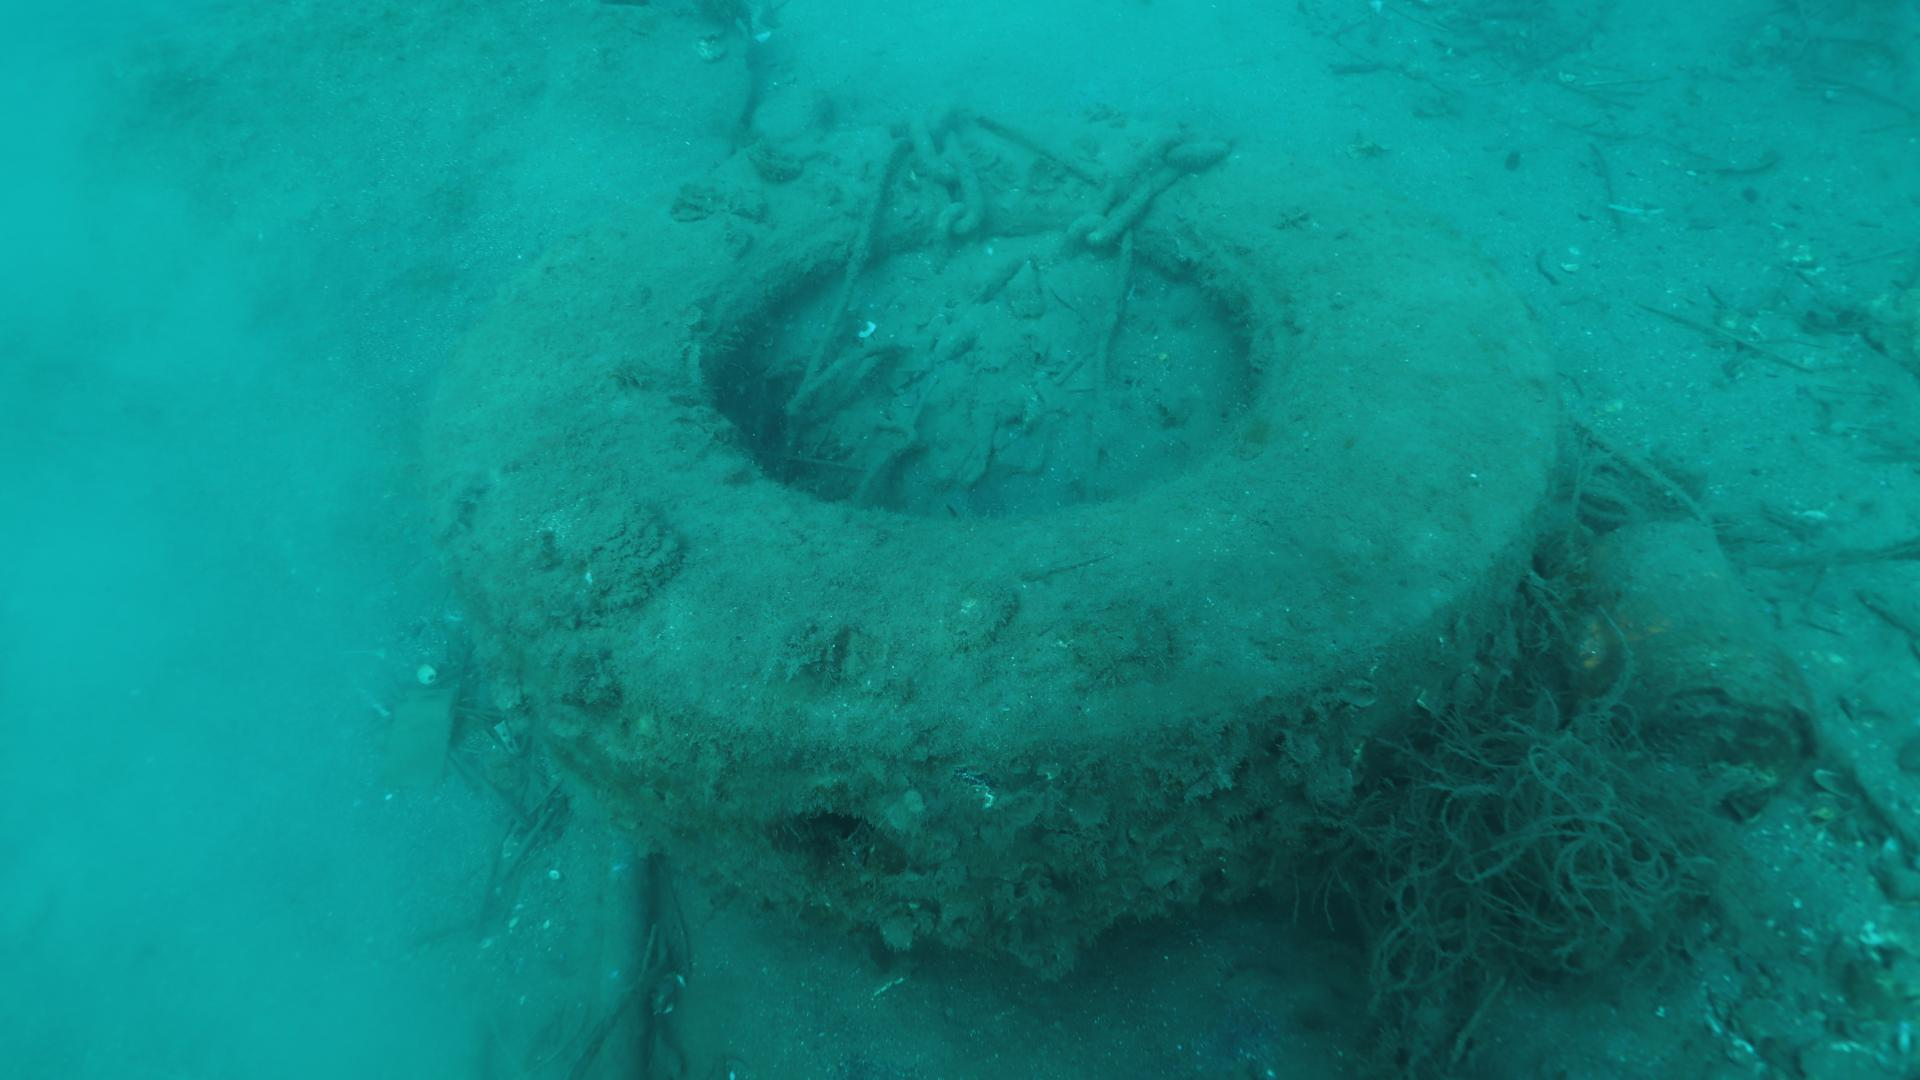tire: (435, 117, 1561, 953)
